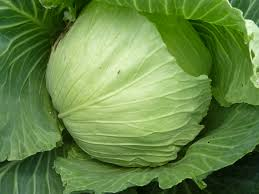cabbage: (46, 1, 220, 170)
